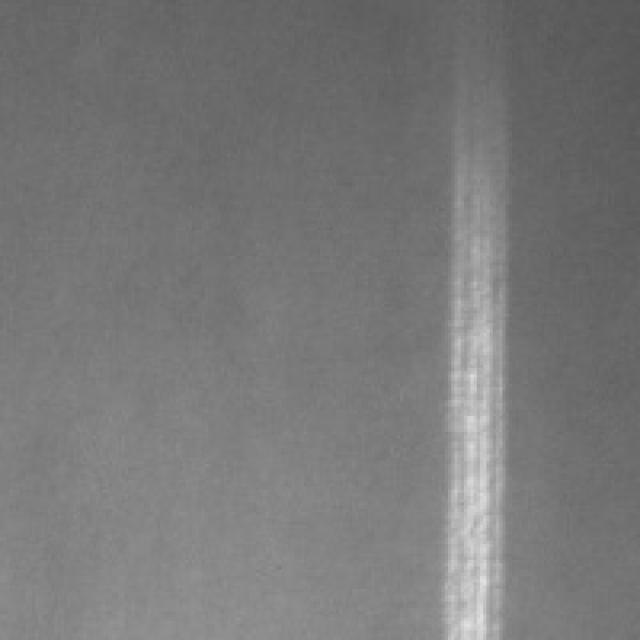scratches: (429, 115, 509, 630)
